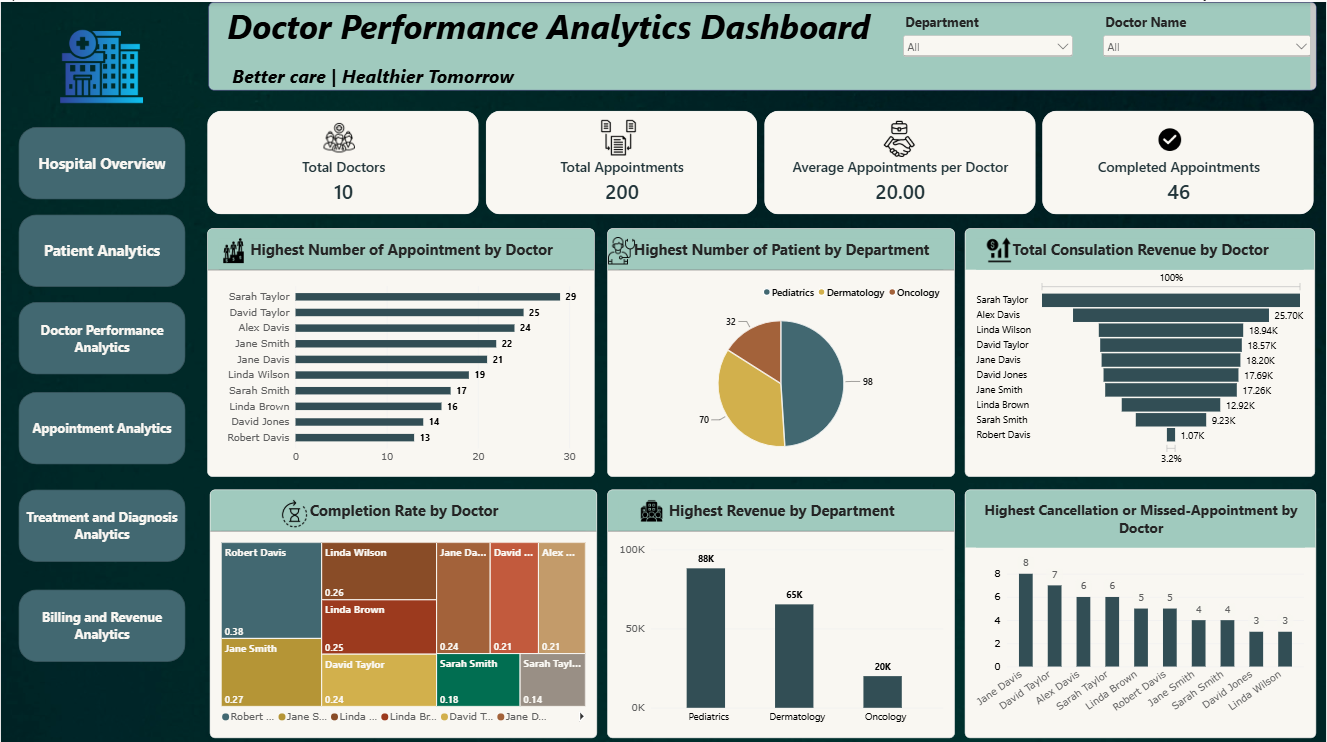

Layout of this report page (visuals, bound fields, positions):
{"tool":"powerbi","page":{"name":"Doctor Performance Analytics Dashboard","canvas":[1920,1080],"ordinal":2},"visuals":[{"type":"textbox","box":[300,0,1604,128],"z":0},{"type":"shape","box":[25.3,181,241.8,104.8],"z":1000},{"type":"shape","box":[25.3,307.6,241.8,104.8],"z":2000},{"type":"shape","box":[25.3,434.3,241.8,104.8],"z":3000},{"type":"shape","box":[25.3,564.6,241.8,104.8],"z":4000},{"type":"shape","box":[25.3,705.8,241.8,104.8],"z":5000},{"type":"image","box":[77.8,29,135.7,128.5],"z":6000},{"type":"cardVisual","fields":{"Data":["appointments.Total Doctors","appointments.Total Appointments","appointments.Average Appointments per Doctor","appointments.Completed Appointments"]},"box":[299.3,158.3,1604,150],"z":7000},{"type":"barChart","title":"Highest Number of Appointment by Doctor","fields":{"Category":["doctors.Doctor Full Name"],"Y":["CountNonNull(appointments.appointment_id)"]},"box":[299.3,327.5,561,360.1],"z":8000},{"type":"pieChart","title":"Highest Number of Patient by Department","fields":{"Category":["doctors.specialization"],"Y":["CountNonNull(billing.patient_id)"]},"box":[878.5,327.5,503.2,360.1],"z":9000},{"type":"funnel","title":"Total Consulation Revenue by Doctor","fields":{"Category":["doctors.Doctor Full Name"],"Y":["appointments.Total_Revenue"]},"box":[1394.7,327.5,507.6,360.1],"z":10000},{"type":"treemap","title":"Completion Rate by Doctor","fields":{"Group":["doctors.Doctor Full Name"],"Values":["appointments.Completion Rate"]},"box":[301.5,704.9,561,360],"z":11000},{"type":"columnChart","title":"Highest Revenue by Department","fields":{"Category":["doctors.specialization"],"Y":["appointments.Total_Revenue"]},"box":[878.5,704.9,503.2,360.1],"z":12000},{"type":"lineClusteredColumnComboChart","title":"Highest Cancellation or Missed-Appointment by Doctor","fields":{"Category":["doctors.Doctor Full Name"],"Y":["appointments.Cancelled Appointments"]},"box":[1395.2,705.8,508.5,360.1],"z":13000},{"type":"slicer","fields":{"Values":["doctors.specialization"]},"box":[1301.1,16.3,255.1,95],"z":14000},{"type":"slicer","fields":{"Values":["doctors.Doctor Full Name"]},"box":[1590.7,16.3,310.9,95],"z":15000},{"type":"shape","box":[25.3,850.5,241.8,104.8],"z":16000},{"type":"image","box":[877.7,322.1,41.6,76],"z":18000},{"type":"image","box":[1413.3,338.4,61.5,39.8],"z":19000},{"type":"image","box":[924.7,714.8,34.4,43.4],"z":20000},{"type":"image","box":[1675.7,170.1,32.6,57.9],"z":21000},{"type":"image","box":[302.2,342,68.8,36.2],"z":22000},{"type":"image","box":[1261.3,170.1,77.8,56.1],"z":23000},{"type":"image","box":[863.2,170.1,61.5,52.5],"z":24000},{"type":"image","box":[399.9,714.8,50.7,52.5],"z":25000},{"type":"image","box":[466.9,159.3,45.2,74.2],"z":26000}]}

Visuals, with their boxes in screenshot pixels (x1, y1, x2, y2), scaled from the page's 1920x1080 canvas onto the 1327x742 screenshot:
textbox: select_region(207, 0, 1316, 88)
shape: select_region(17, 124, 185, 196)
shape: select_region(17, 211, 185, 283)
shape: select_region(17, 298, 185, 370)
shape: select_region(17, 388, 185, 460)
shape: select_region(17, 485, 185, 557)
image: select_region(54, 20, 148, 108)
cardVisual - appointments.Total Doctors x appointments.Total Appointments: select_region(207, 109, 1315, 212)
"Highest Number of Appointment by Doctor" barChart: select_region(207, 225, 595, 472)
"Highest Number of Patient by Department" pieChart: select_region(607, 225, 955, 472)
"Total Consulation Revenue by Doctor" funnel: select_region(964, 225, 1315, 472)
"Completion Rate by Doctor" treemap: select_region(208, 484, 596, 732)
"Highest Revenue by Department" columnChart: select_region(607, 484, 955, 732)
"Highest Cancellation or Missed-Appointment by Doctor" lineClusteredColumnComboChart: select_region(964, 485, 1316, 732)
slicer - doctors.specialization: select_region(899, 11, 1076, 76)
slicer - doctors.Doctor Full Name: select_region(1099, 11, 1314, 76)
shape: select_region(17, 584, 185, 656)
image: select_region(607, 221, 635, 274)
image: select_region(977, 232, 1019, 260)
image: select_region(639, 491, 663, 521)
image: select_region(1158, 117, 1181, 157)
image: select_region(209, 235, 256, 260)
image: select_region(872, 117, 926, 155)
image: select_region(597, 117, 639, 153)
image: select_region(276, 491, 311, 527)
image: select_region(323, 109, 354, 160)
